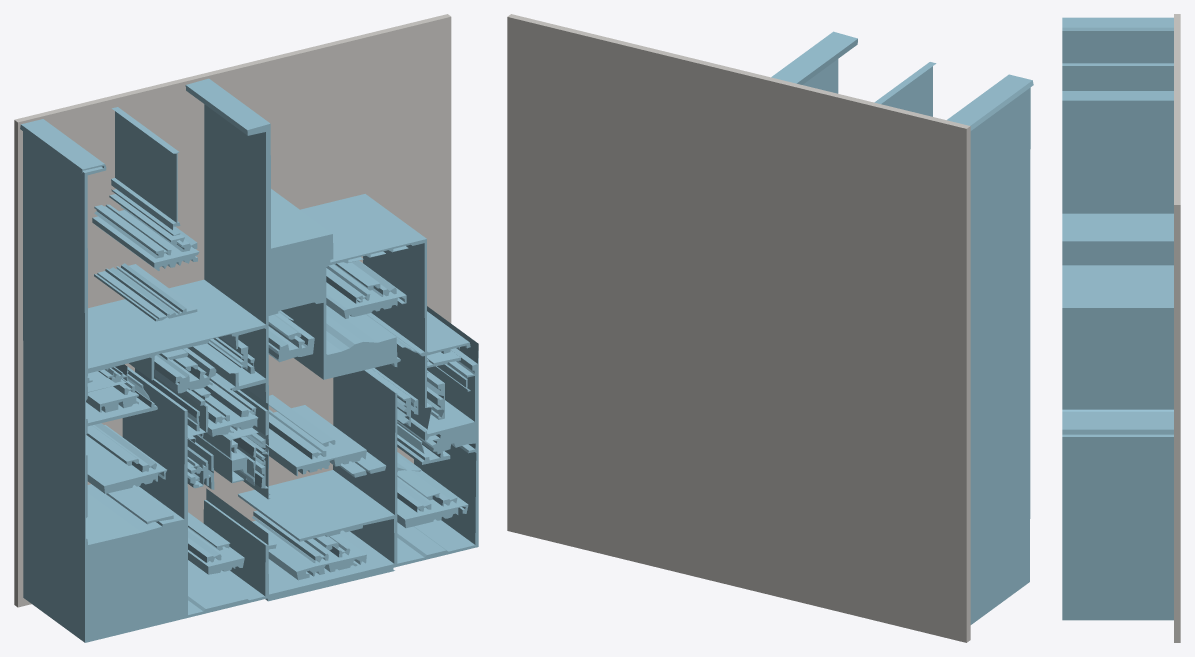
3 renders of one model, left to right at view 1: azimuth 30°, elevation 25°; view 2: azimuth 150°, elevation 25°; view 3: azimuth 270°, elevation 25°, orthographic. The views are drawn at different scales.
Parts seen in each view (by area): view 1: world; view 2: world; view 3: world.
Part boxes in pixels (x1=…): world: x1=14, y1=14, x2=478, y2=642; world: x1=507, y1=14, x2=1033, y2=642; world: x1=1062, y1=14, x2=1180, y2=642.
Bounding box in the file's own units: 10.23 × 10.94 × 2.67.
